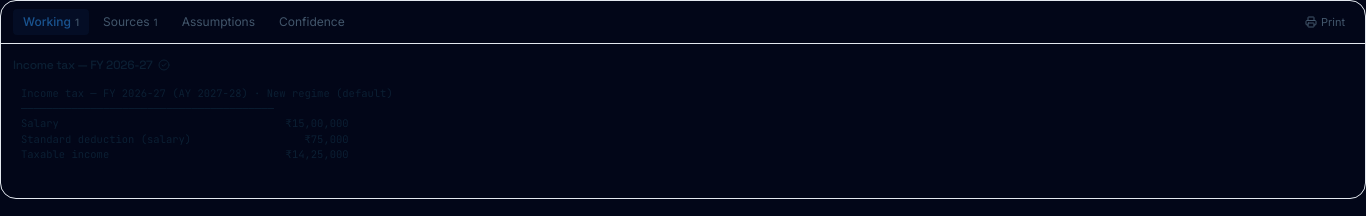
Sources › explains the 1961 equivalent only where both numbers are known
The image size is (1366, 216).
Click the tab "Sources1" at (130, 22), box x1=93 y1=9 x2=168 y2=35
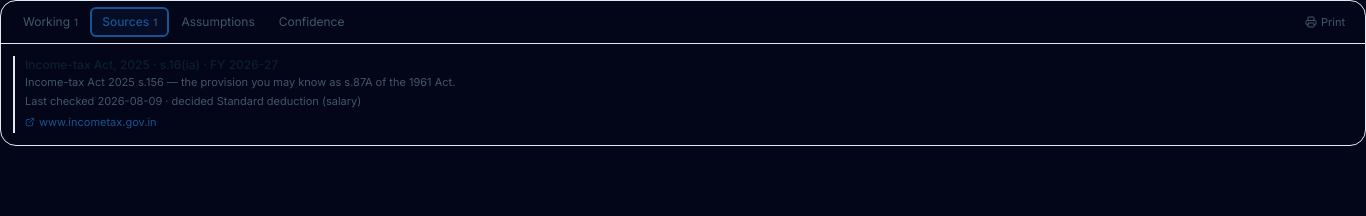
Expected: the panel named "sources" shows "you may know as s.87A of the 1961 Act", x1=13 y1=56 x2=1353 y2=133
